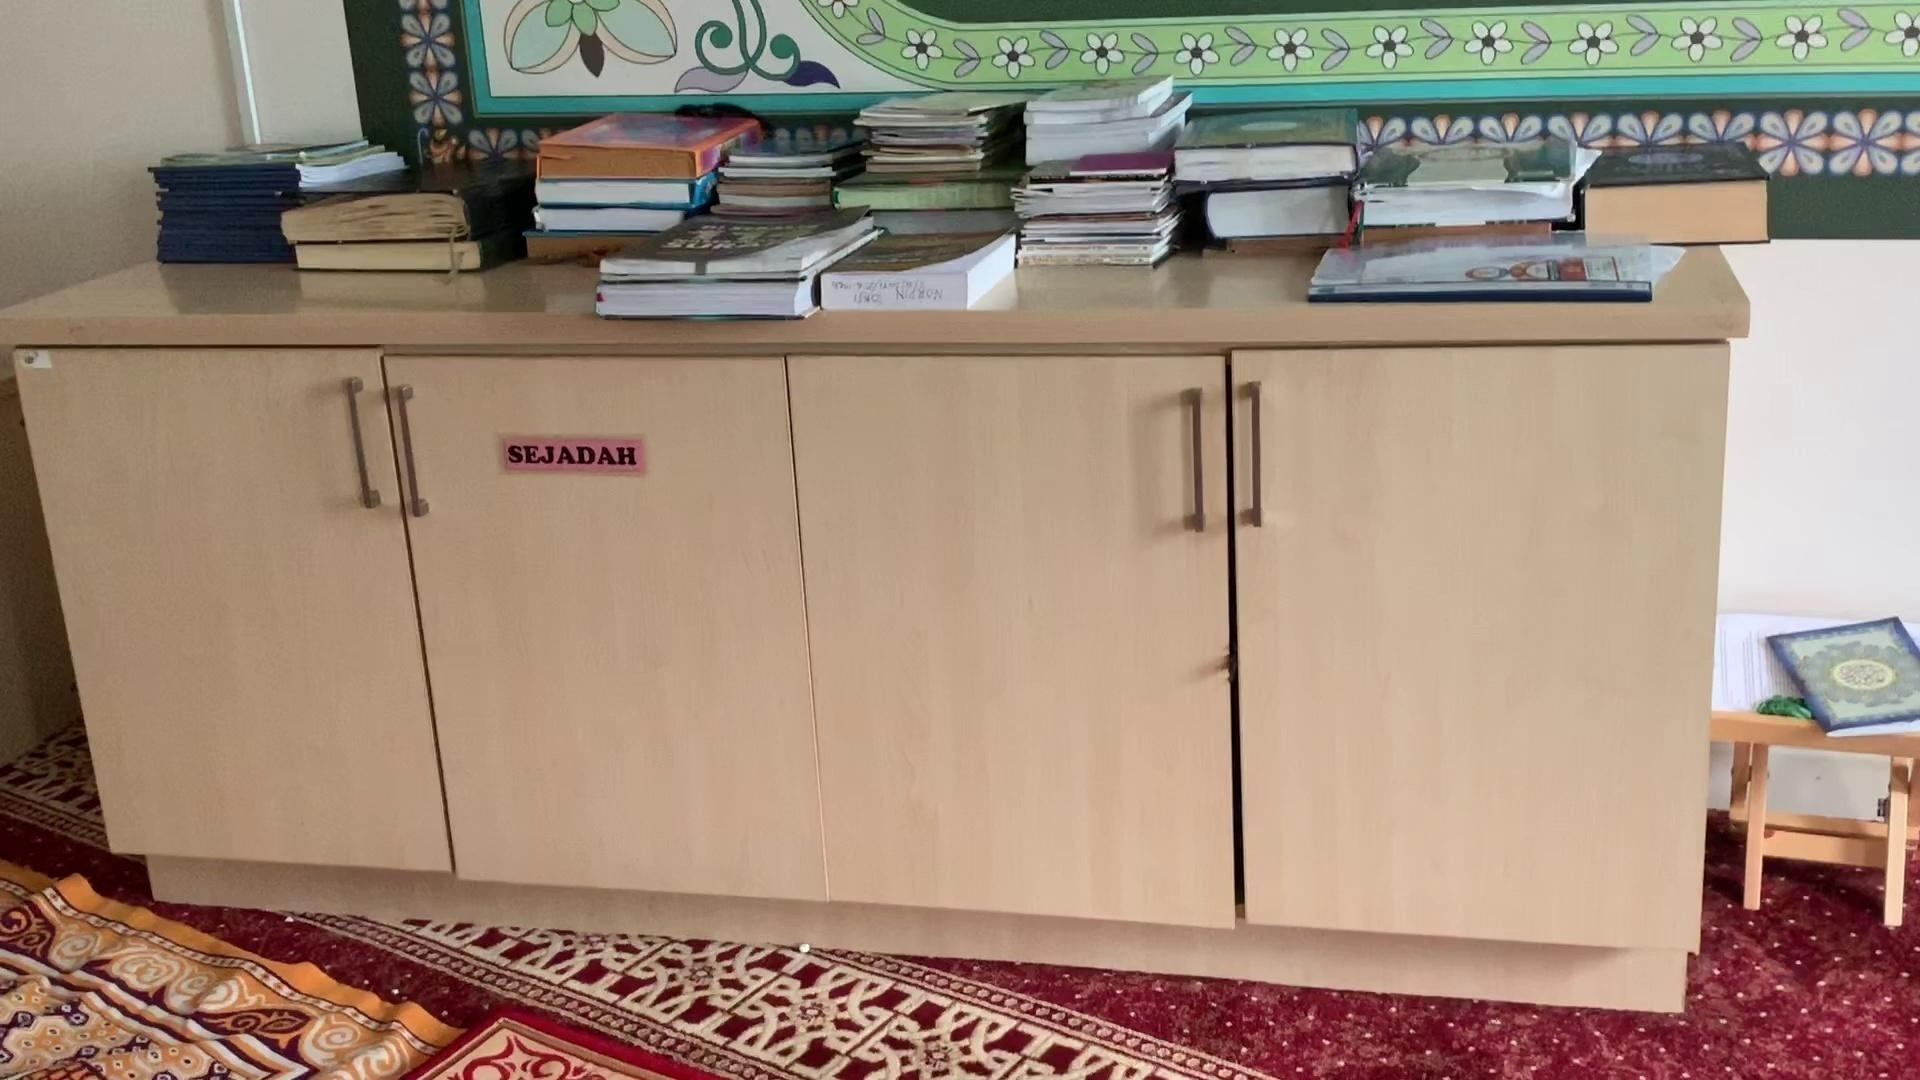cabinet_door: (1230, 355, 1700, 938), (806, 365, 1222, 913), (404, 368, 793, 897), (57, 349, 401, 866)
handle: (384, 381, 439, 516), (1228, 385, 1276, 527), (1170, 389, 1215, 534), (339, 375, 382, 512)
